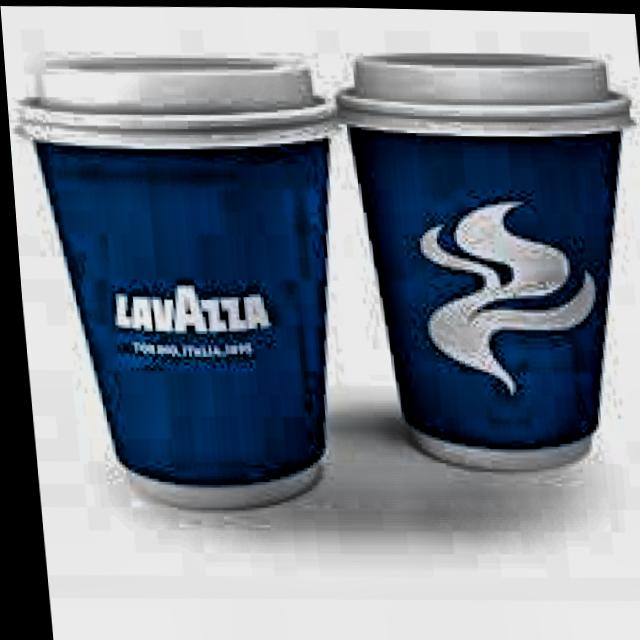Cup: (5, 86, 354, 519), (325, 87, 640, 476)
